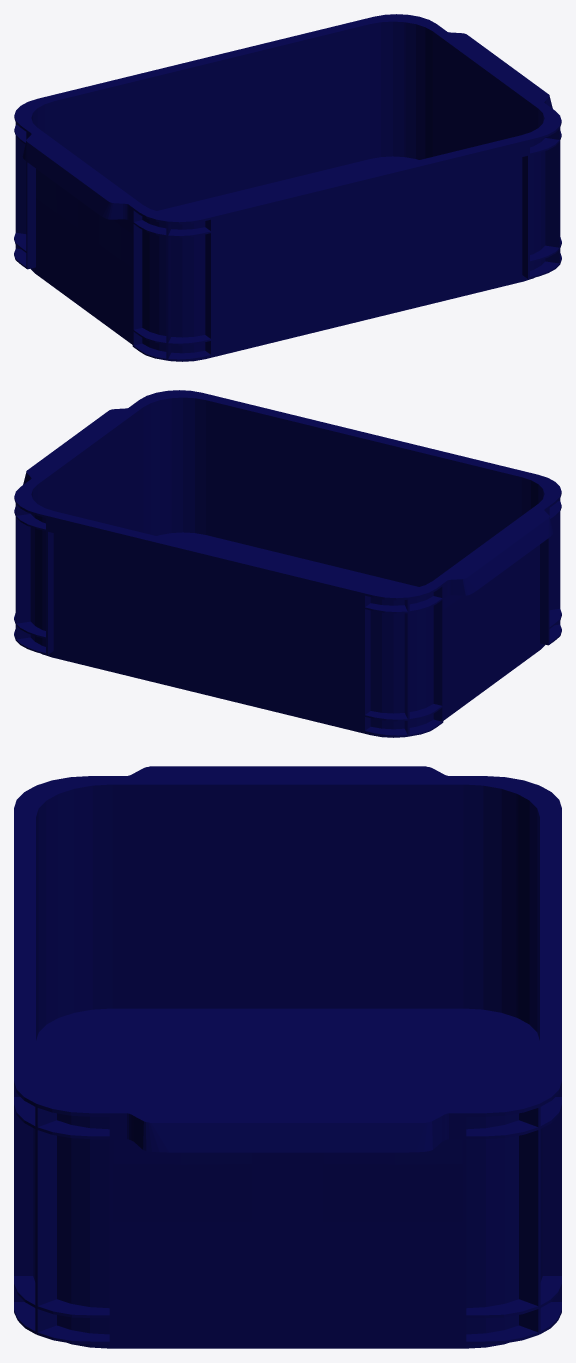
The model's file is Bluebox.obj.
3 renders of one model, top to bottom at view 1: azimuth 30°, elevation 25°; view 2: azimuth 150°, elevation 25°; view 3: azimuth 270°, elevation 25°, orthographic. The views are drawn at different scales.
Visible parts, largest first — view 1: AoBox; view 2: AoBox; view 3: AoBox.
Boxes of the visible parts, bbox=[...] form: AoBox: bbox=[14, 14, 561, 361]; AoBox: bbox=[14, 390, 561, 737]; AoBox: bbox=[14, 766, 561, 1348].
Bounding box in the file's own units: 3.38 × 1.05 × 2.15.
